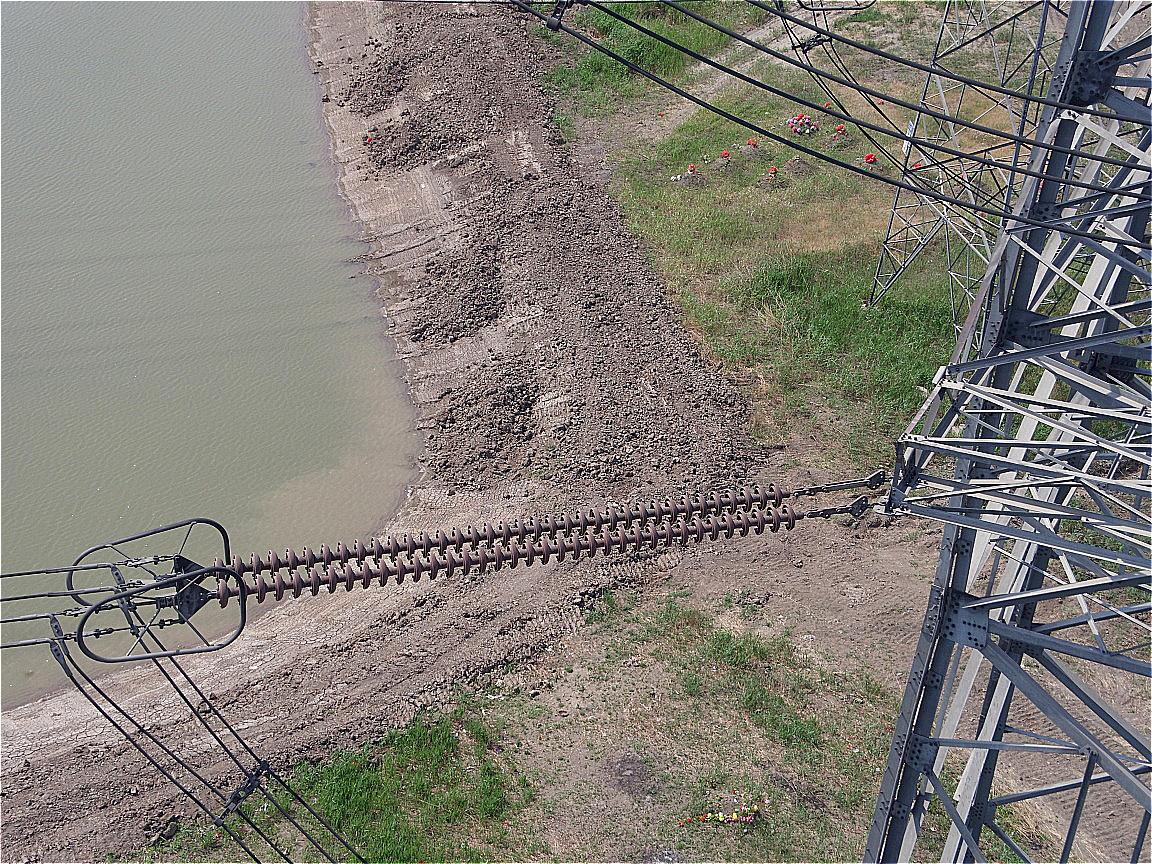insultor1: (216, 483, 794, 607)
